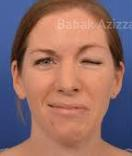strokeEyeSevere: (28, 43, 107, 73)
strokeMouthWeak: (46, 96, 92, 117)
